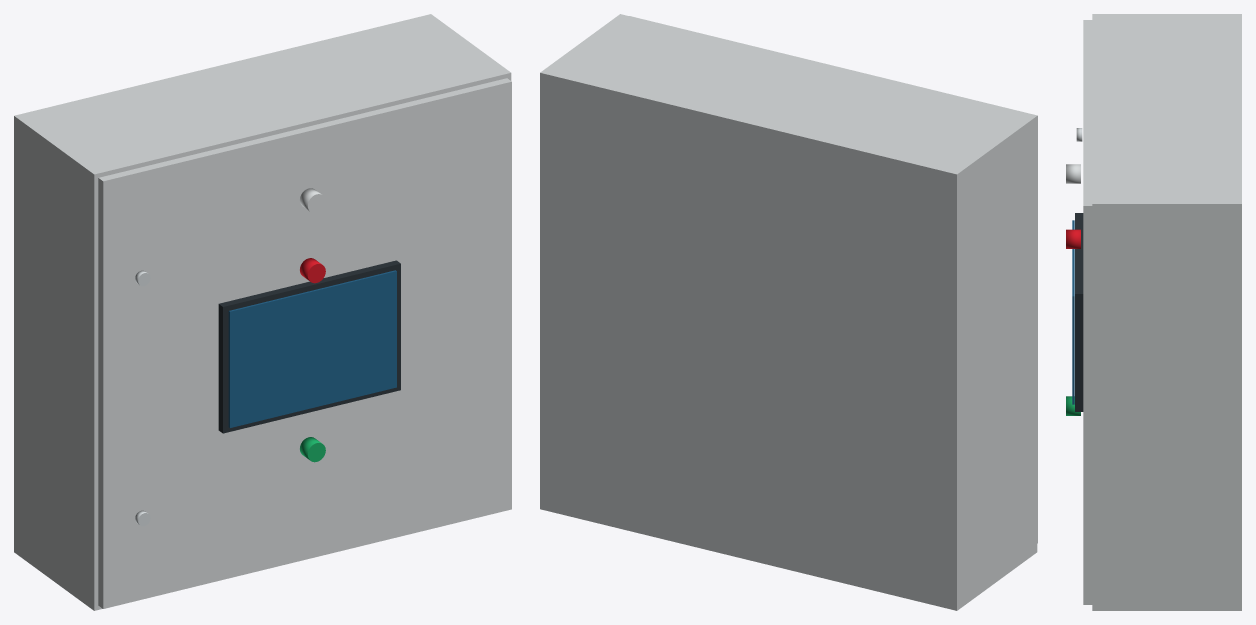
Rendered from cabinet__premium-cascade.glb.
3 views of the same model, side by side, from view 1: azimuth 30°, elevation 25°; view 2: azimuth 150°, elevation 25°; view 3: azimuth 270°, elevation 25° (orthographic). The views are drawn at different scales.
Parts seen in each view (by area): view 1: Дверь, Корпус шкафа, Экран, Панель управления; view 2: Корпус шкафа, Дверь; view 3: Корпус шкафа, Дверь, Панель управления, Экран, Сеть, Авария.
Part boxes in pixels (box(x1,y1,x2,y2)): Дверь: box(98, 78, 511, 608); Корпус шкафа: box(14, 14, 511, 610); Экран: box(228, 270, 396, 427); Панель управления: box(218, 260, 400, 433); Корпус шкафа: box(540, 14, 1037, 610); Дверь: box(629, 16, 1037, 543); Корпус шкафа: box(1092, 14, 1241, 610); Дверь: box(1083, 20, 1092, 604); Панель управления: box(1075, 213, 1083, 411); Экран: box(1072, 220, 1074, 404); Сеть: box(1066, 164, 1080, 183); Авария: box(1066, 229, 1080, 248).
Bounding box in the file's own units: 0.6 × 0.618 × 0.235.
